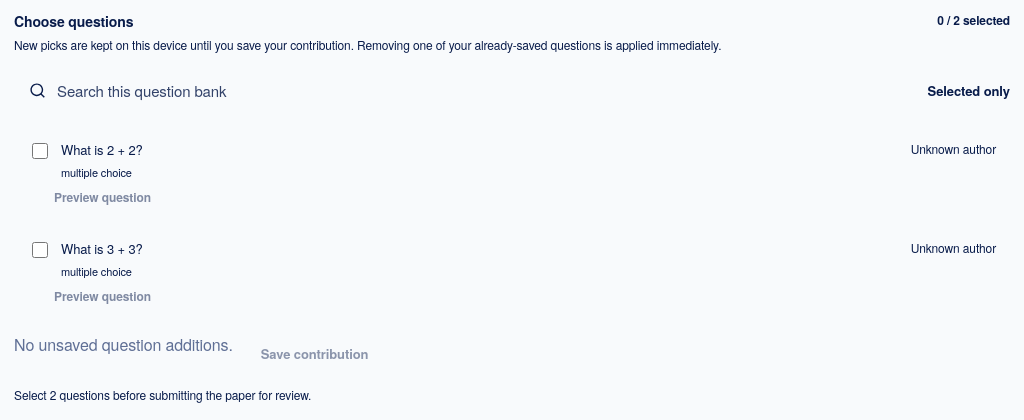
Test: manual examination contribution drafts › removes an unsaved pick locally and restores its empty checkbox
Click the checkbox named "Select question: What is 2 + 2?": [40, 151] box [32,143,48,159]
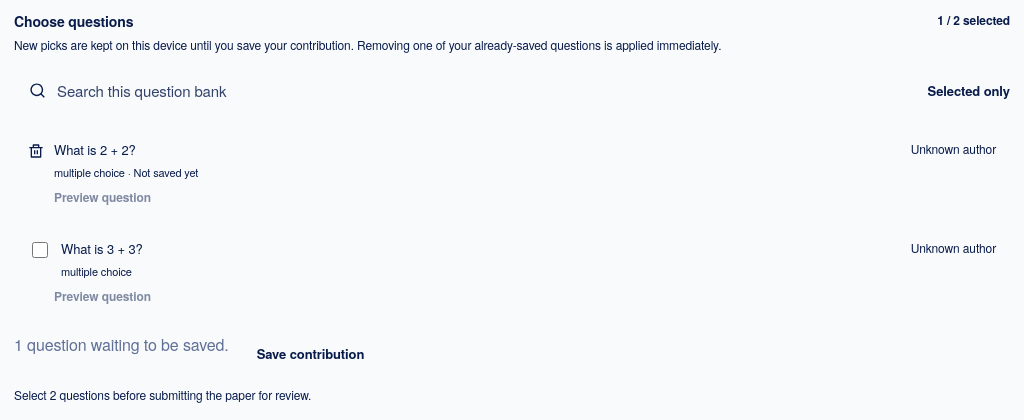
Click the button named "Remove question from exam: What is 2 + 2?": [36, 151] box [26,140,46,162]
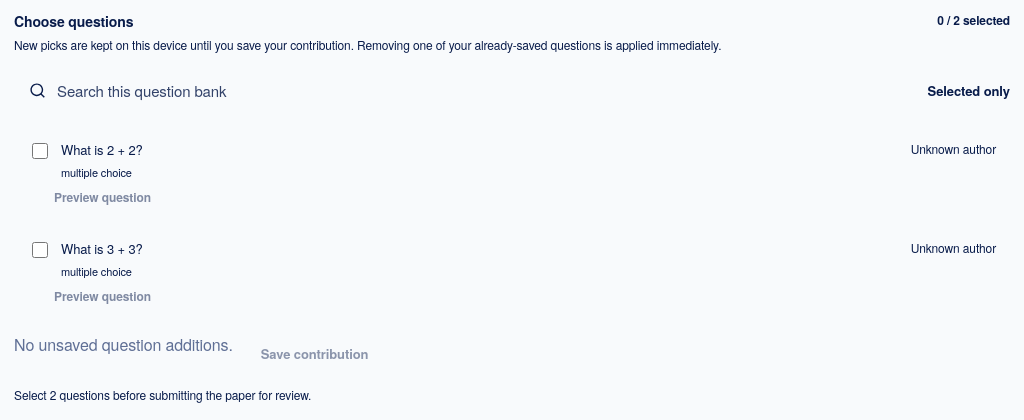
Result: the checkbox named "Select question: What is 2 + 2?" is not checked at [32,143,48,159]
